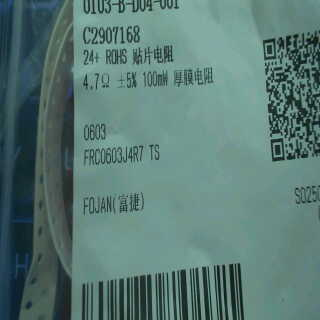4.7R: (79, 70, 114, 94)
